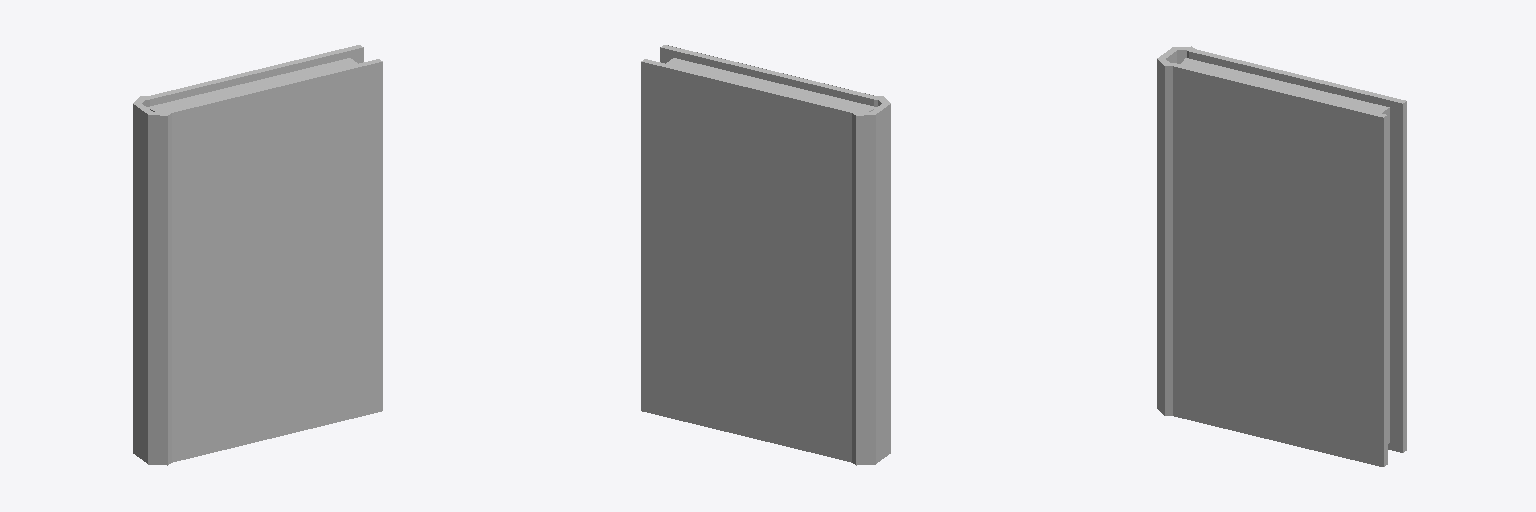
File: book.obj
3 views of the same model, side by side, from view 1: azimuth 30°, elevation 25°; view 2: azimuth 150°, elevation 25°; view 3: azimuth 330°, elevation 25° (orthographic).
Visible parts, largest first — view 1: 02_CoverImage, 01_Cover, 00_Pages; view 2: 01_Cover, 00_Pages; view 3: 02_CoverImage, 01_Cover, 00_Pages.
Part boxes in pixels (left/top/right/bottom): 02_CoverImage: left=173, top=62, right=382, bottom=461; 01_Cover: left=133, top=45, right=382, bottom=465; 00_Pages: left=147, top=58, right=357, bottom=111; 01_Cover: left=641, top=45, right=890, bottom=465; 00_Pages: left=666, top=58, right=876, bottom=111; 02_CoverImage: left=1173, top=67, right=1382, bottom=466; 01_Cover: left=1157, top=46, right=1406, bottom=466; 00_Pages: left=1181, top=58, right=1389, bottom=443.
Size of the model in its own units: 0.6686 by 0.9692 by 0.1356.